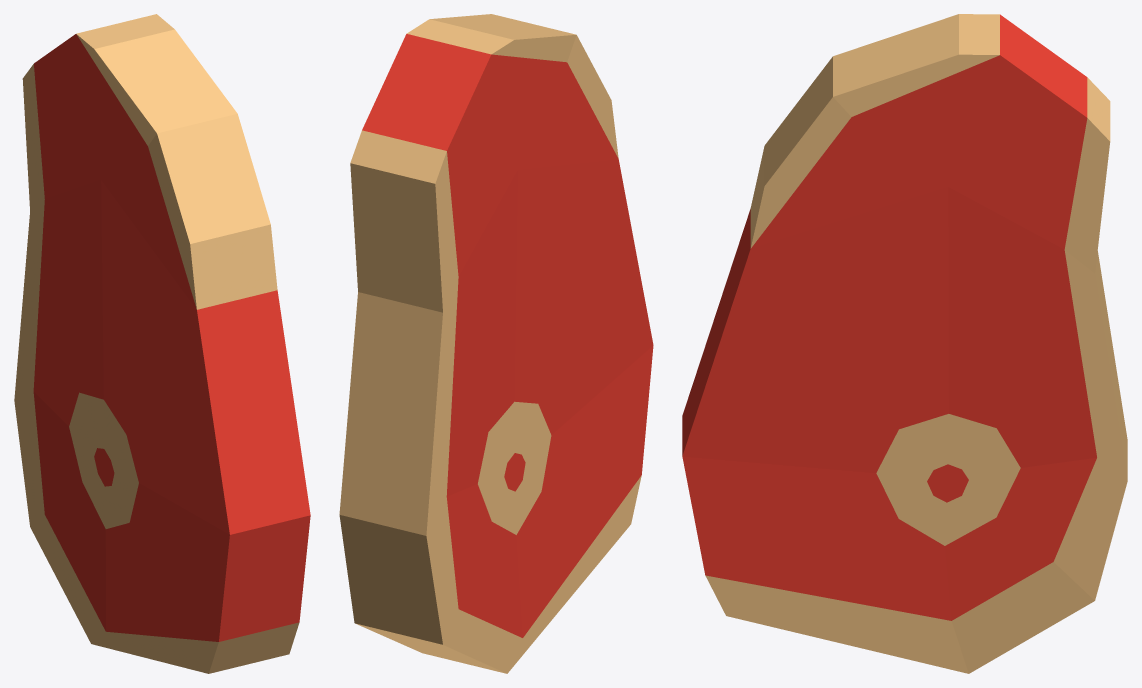
File: steak-by-jeremy-6Kmmf2ViaNB.glb
The picture shows the model from 3 angles, left to right: view 1: azimuth 30°, elevation 25°; view 2: azimuth 150°, elevation 25°; view 3: azimuth 270°, elevation 25°; orthographic projection. The views are drawn at different scales.
Parts seen in each view (by area): view 1: Cube_Cube.024; view 2: Cube_Cube.024; view 3: Cube_Cube.024.
Part boxes in pixels (x1=…): Cube_Cube.024: x1=14, y1=14, x2=310, y2=673; Cube_Cube.024: x1=339, y1=14, x2=653, y2=673; Cube_Cube.024: x1=682, y1=14, x2=1127, y2=673.
Size of the model in its own units: 1.5 by 9.98 by 6.51.
